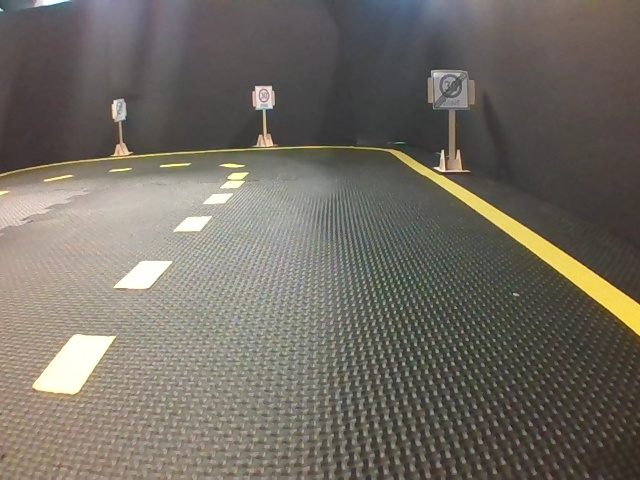30: (254, 83, 274, 110)
no30: (431, 71, 468, 110), (113, 100, 125, 120)
